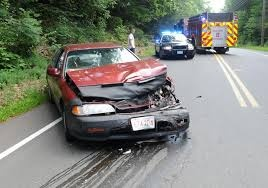Smashed: (119, 64, 182, 136)
